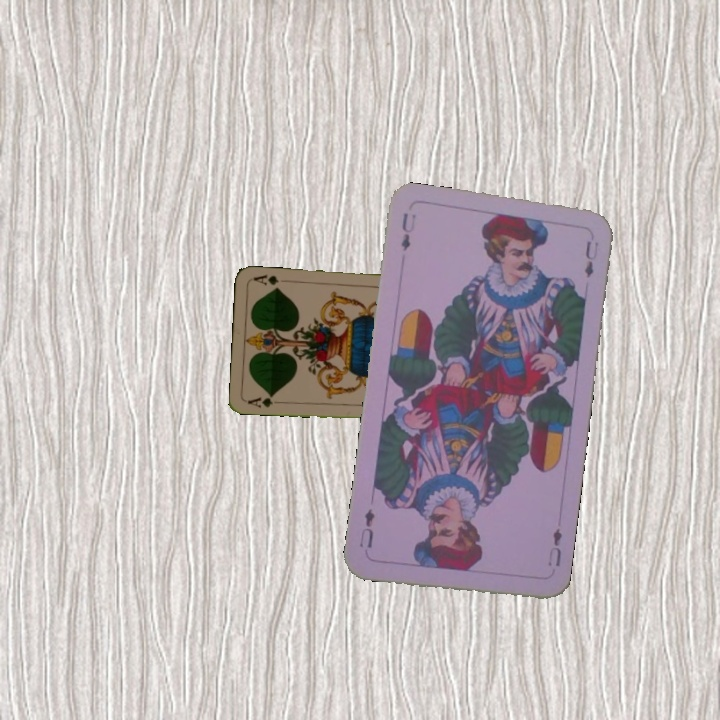EU: (544, 524, 565, 569), (397, 209, 418, 254)
GA: (244, 391, 276, 410)
